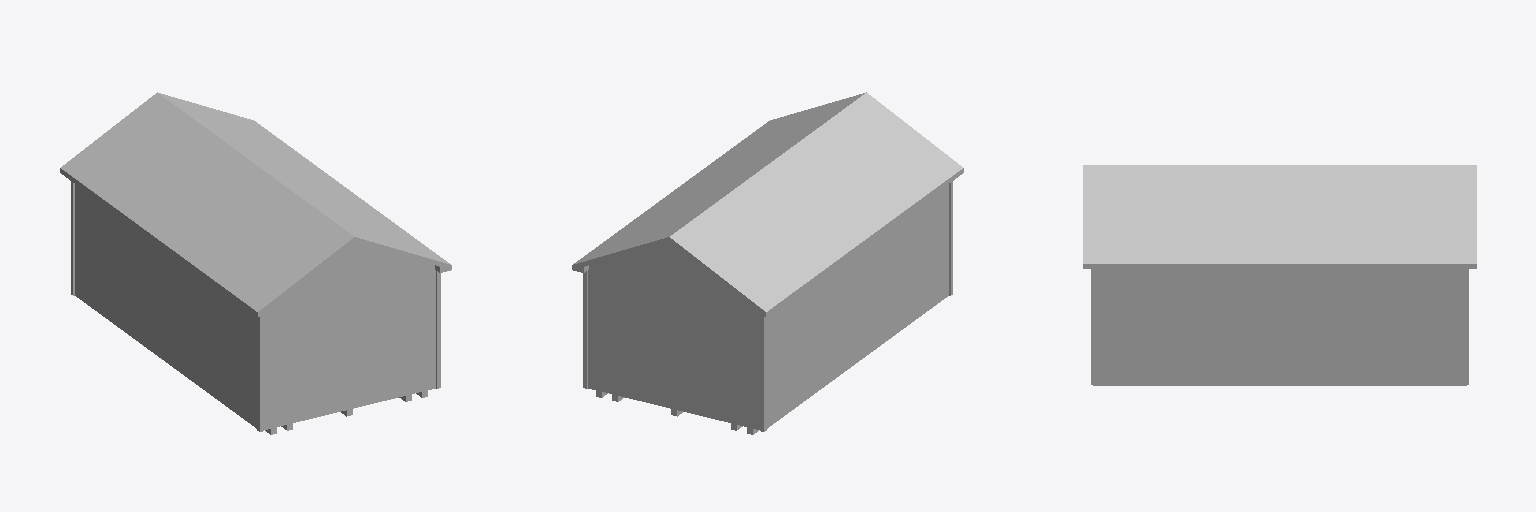
The model's file is Classic A-Frame_10x18.obj.
3 views of the same model, side by side, from view 1: azimuth 30°, elevation 25°; view 2: azimuth 150°, elevation 25°; view 3: azimuth 270°, elevation 25° (orthographic).
Visible parts, largest first — view 1: Classic A-Frame_10x18.obj; view 2: Classic A-Frame_10x18.obj; view 3: Classic A-Frame_10x18.obj.
Boxes of the visible parts, <box> form: Classic A-Frame_10x18.obj: <box>60,92,451,434</box>; Classic A-Frame_10x18.obj: <box>572,92,963,434</box>; Classic A-Frame_10x18.obj: <box>1083,165,1476,385</box>.
Bounding box in the file's own units: 3.29 × 2.96 × 5.79.